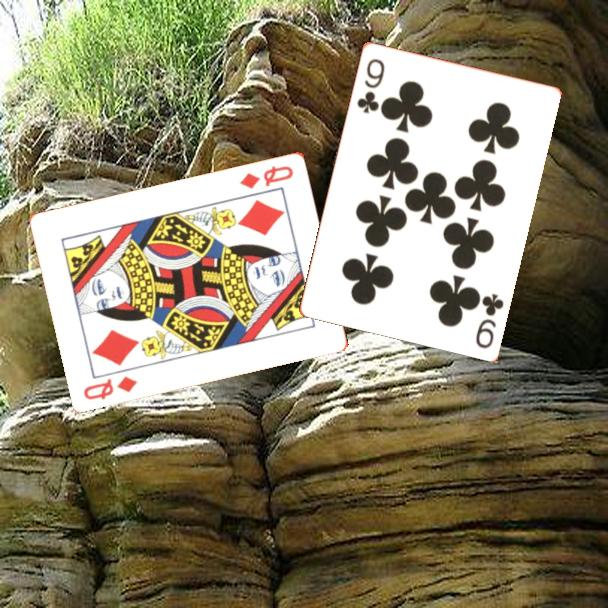c09: (472, 289, 506, 351), (353, 55, 387, 116)
d12: (80, 372, 141, 402), (236, 162, 296, 191)
